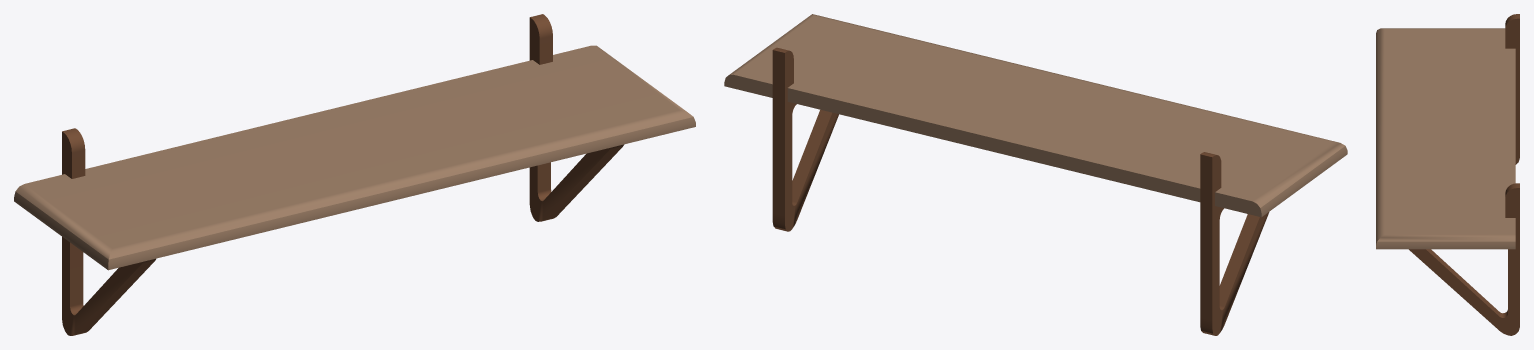
The model's file is repisa.fbx.
3 views of the same model, side by side, from view 1: azimuth 30°, elevation 25°; view 2: azimuth 150°, elevation 25°; view 3: azimuth 270°, elevation 25° (orthographic). The views are drawn at different scales.
Parts seen in each view (by area): view 1: polySurface6; view 2: polySurface6; view 3: polySurface6.
Boxes of the visible parts, <box> form: polySurface6: <box>14,14,695,335</box>; polySurface6: <box>724,14,1347,335</box>; polySurface6: <box>1376,14,1519,335</box>.
Size of the model in its own units: 69.53 by 22.55 by 19.88.
